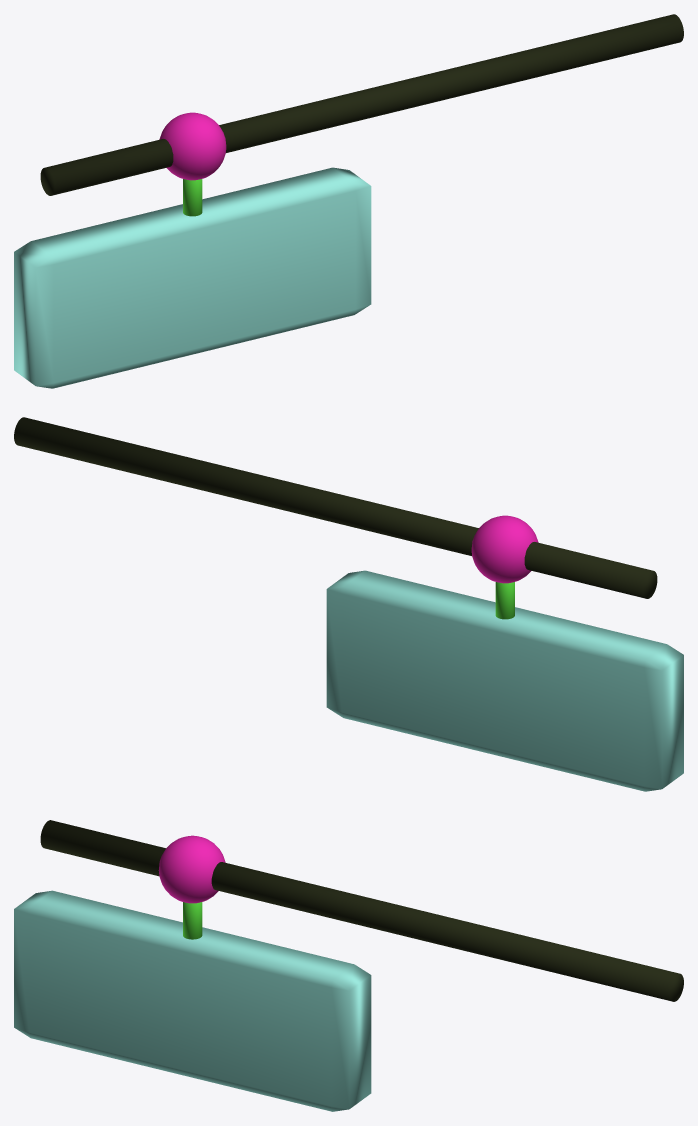
The model's file is moving_bar.fbx.
3 renders of one model, top to bottom at view 1: azimuth 30°, elevation 25°; view 2: azimuth 150°, elevation 25°; view 3: azimuth 330°, elevation 25°, orthographic.
Parts seen in each view (by area): view 1: Cube, Cylinder.001, Sphere, Cylinder; view 2: Cube, Cylinder.001, Sphere, Cylinder; view 3: Cube, Cylinder.001, Sphere, Cylinder.
Boxes of the visible parts, bbox=[...] form: Cube: bbox=[14, 167, 371, 388]; Cylinder.001: bbox=[40, 14, 683, 195]; Sphere: bbox=[159, 112, 226, 180]; Cylinder: bbox=[183, 179, 202, 216]; Cube: bbox=[326, 570, 683, 791]; Cylinder.001: bbox=[14, 417, 657, 598]; Sphere: bbox=[471, 515, 538, 583]; Cylinder: bbox=[495, 582, 514, 619]; Cube: bbox=[14, 890, 371, 1111]; Cylinder.001: bbox=[40, 820, 683, 1001]; Sphere: bbox=[158, 835, 225, 903]; Cylinder: bbox=[183, 902, 202, 939].
Size of the model in its own units: 155 by 52 by 14.
